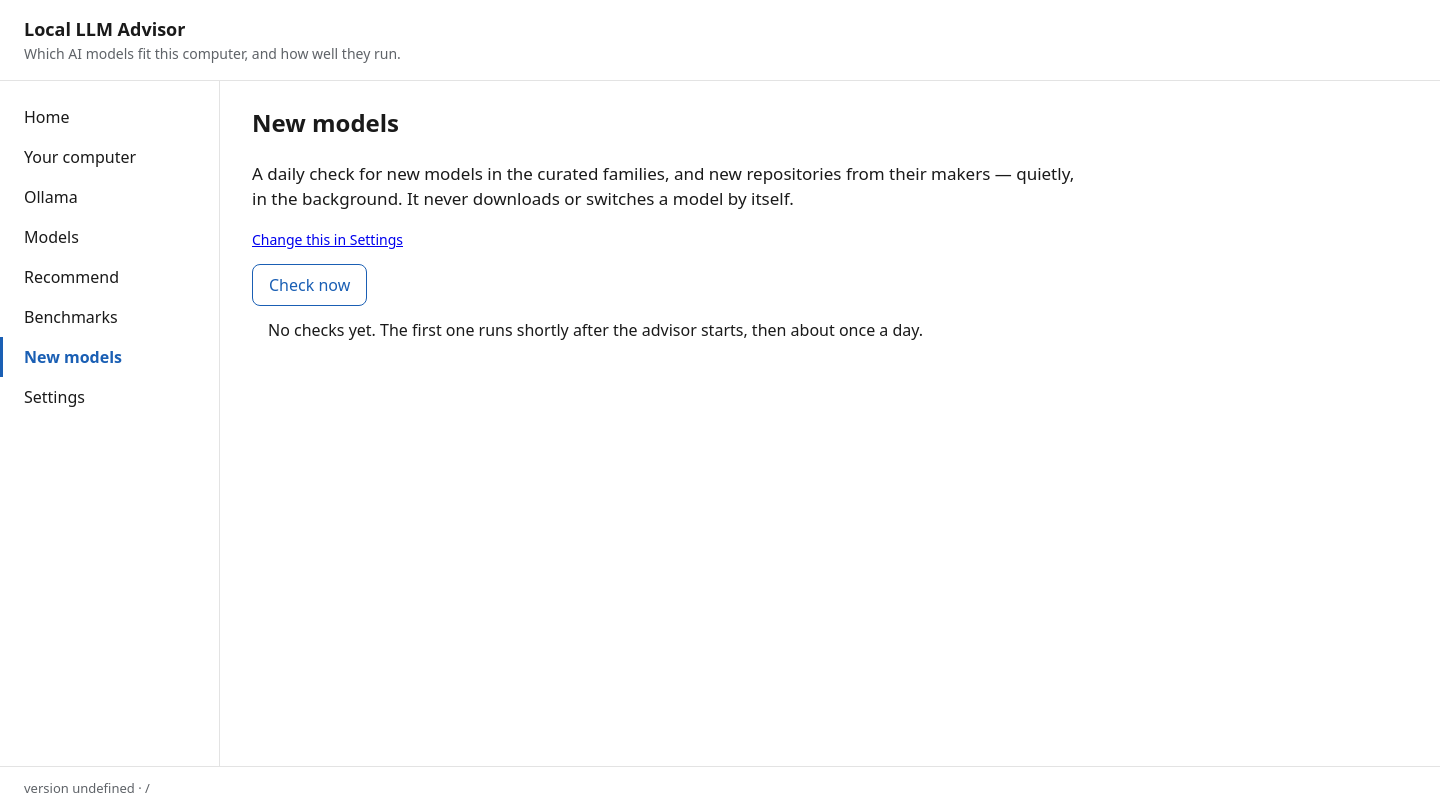
Test: Watch › says a check is already running rather than failing silently
The width and height of the screenshot is (1440, 810).
Expected: the text with test id "watch-empty" is shown, [268,319,923,341]
Step 1. Click the button "Check now" → (310, 285), box [252,264,367,306]
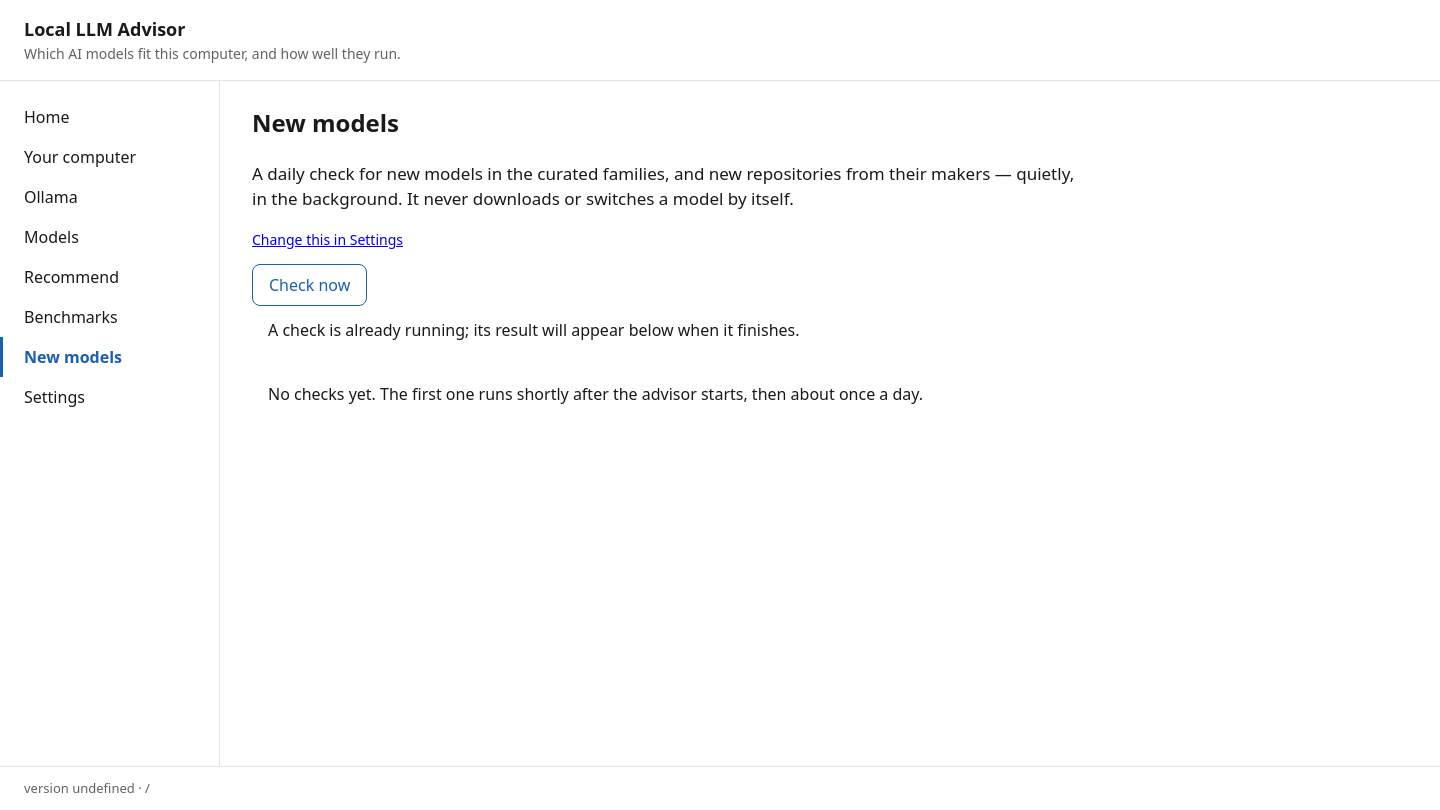
Result: the text "A check is already running; its result will appear below when it finishes." is shown at [268,319,800,341]
